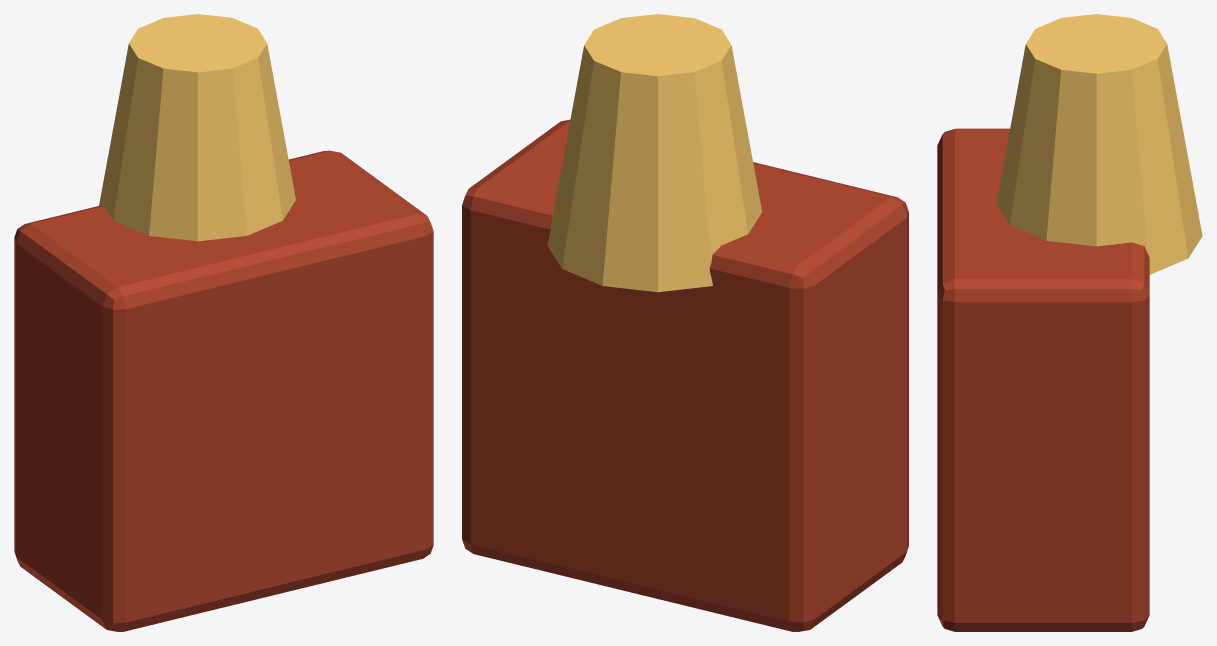
The model's file is lantern-backpack.glb.
3 renders of one model, left to right at view 1: azimuth 30°, elevation 25°; view 2: azimuth 150°, elevation 25°; view 3: azimuth 270°, elevation 25°, orthographic. The views are drawn at different scales.
Visible parts, largest first — view 1: lantern-backpack, lantern-backpack-light; view 2: lantern-backpack, lantern-backpack-light; view 3: lantern-backpack, lantern-backpack-light.
Part boxes in pixels (<box>): lantern-backpack: <box>14,150,433,631</box>; lantern-backpack-light: <box>99,14,295,241</box>; lantern-backpack: <box>462,119,908,631</box>; lantern-backpack-light: <box>547,14,761,292</box>; lantern-backpack: <box>937,128,1149,631</box>; lantern-backpack-light: <box>996,14,1202,274</box>.
Bounding box in the file's own units: 0.22 × 0.32 × 0.15.
